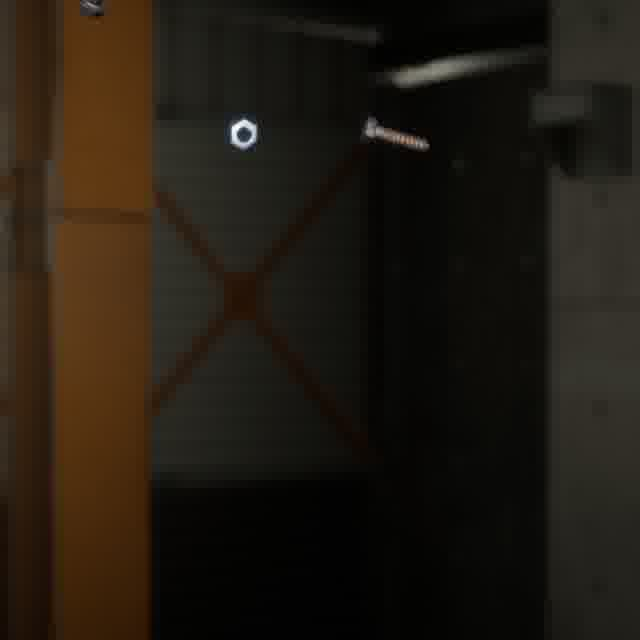bolt: (356, 112, 433, 156), (73, 0, 110, 23)
nut: (223, 112, 262, 154)
